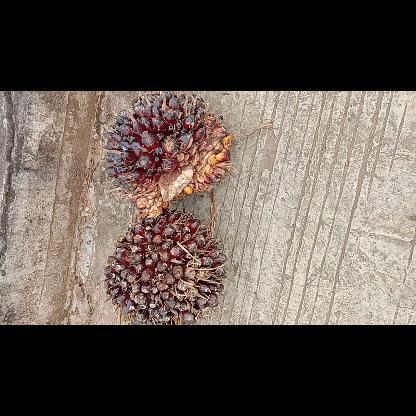TBS mentah: (99, 91, 235, 221), (103, 208, 229, 324)
